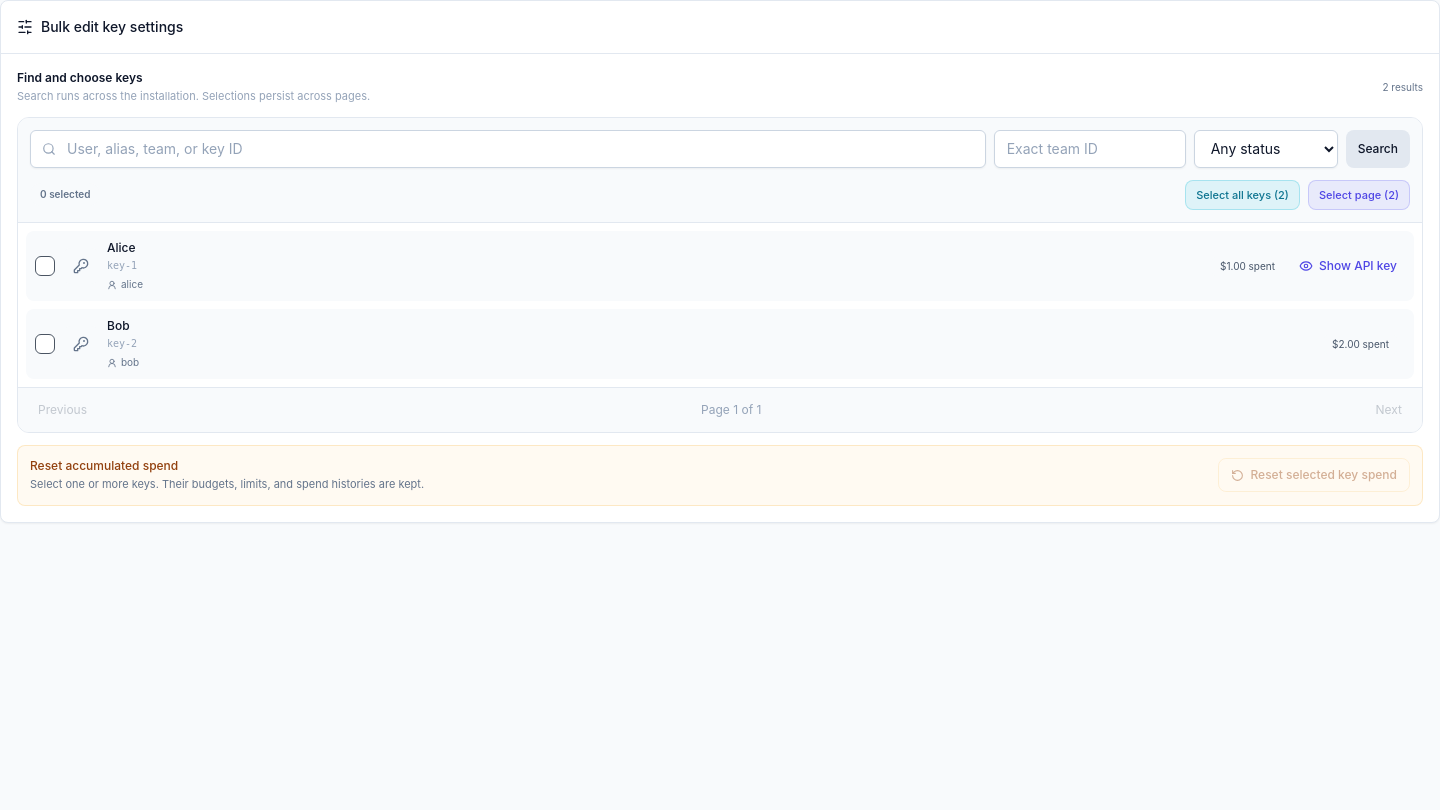
Scenario: BulkKeyEditor › lets administrators reveal a stored key from the list
The image size is (1440, 810).
Click the button "Show API key" at [1348, 266], box [1291,252,1405,280]
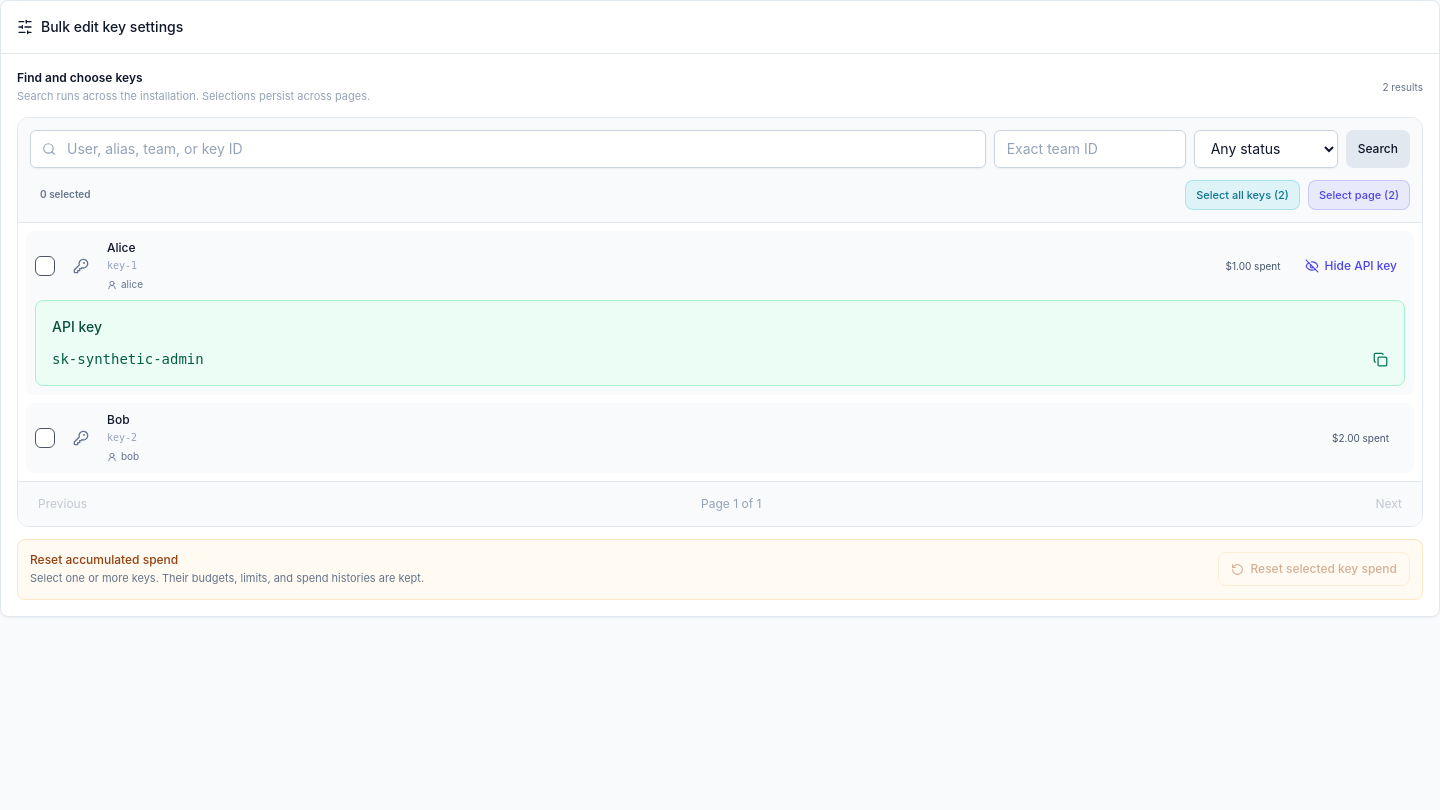
Expected: the checkbox named "Select Alice" is not checked, [35,232,1288,300]
Now the text "sk-synthetic-admin" is shown, box [52,351,204,367]
